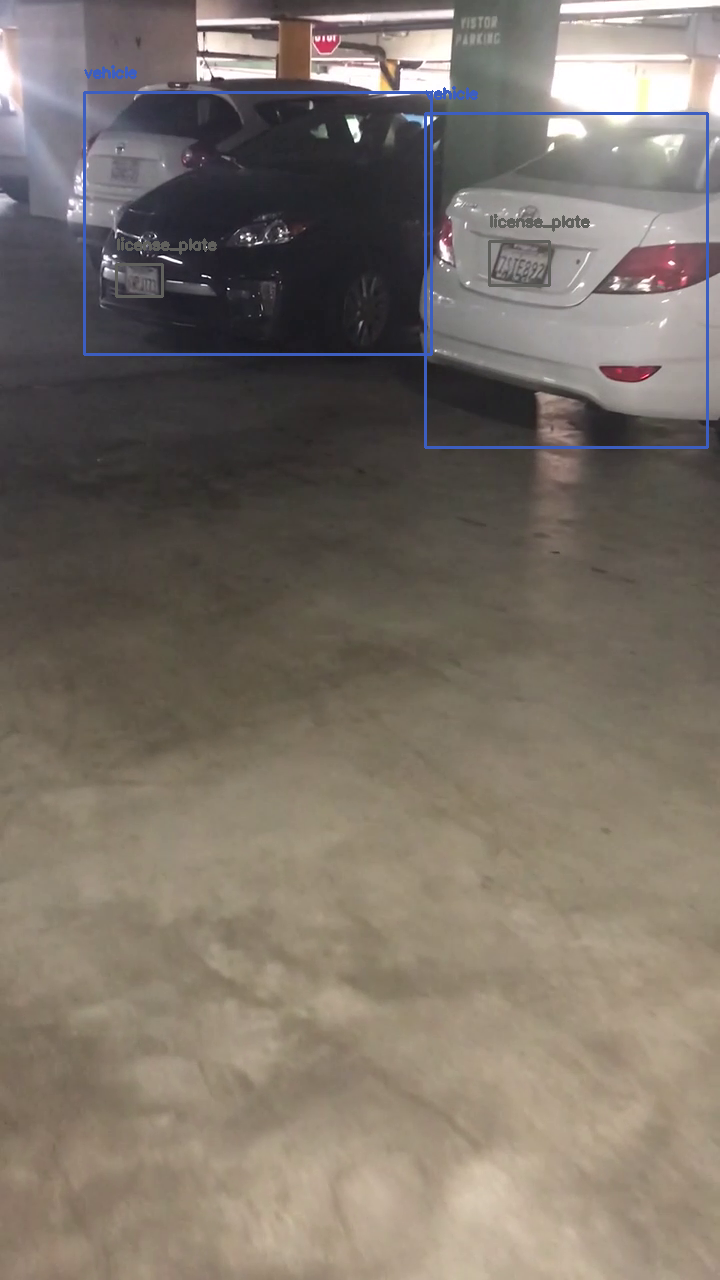license_plate: (489, 241, 549, 285), (116, 264, 162, 296)
vehicle: (425, 113, 707, 447), (84, 92, 431, 354)
